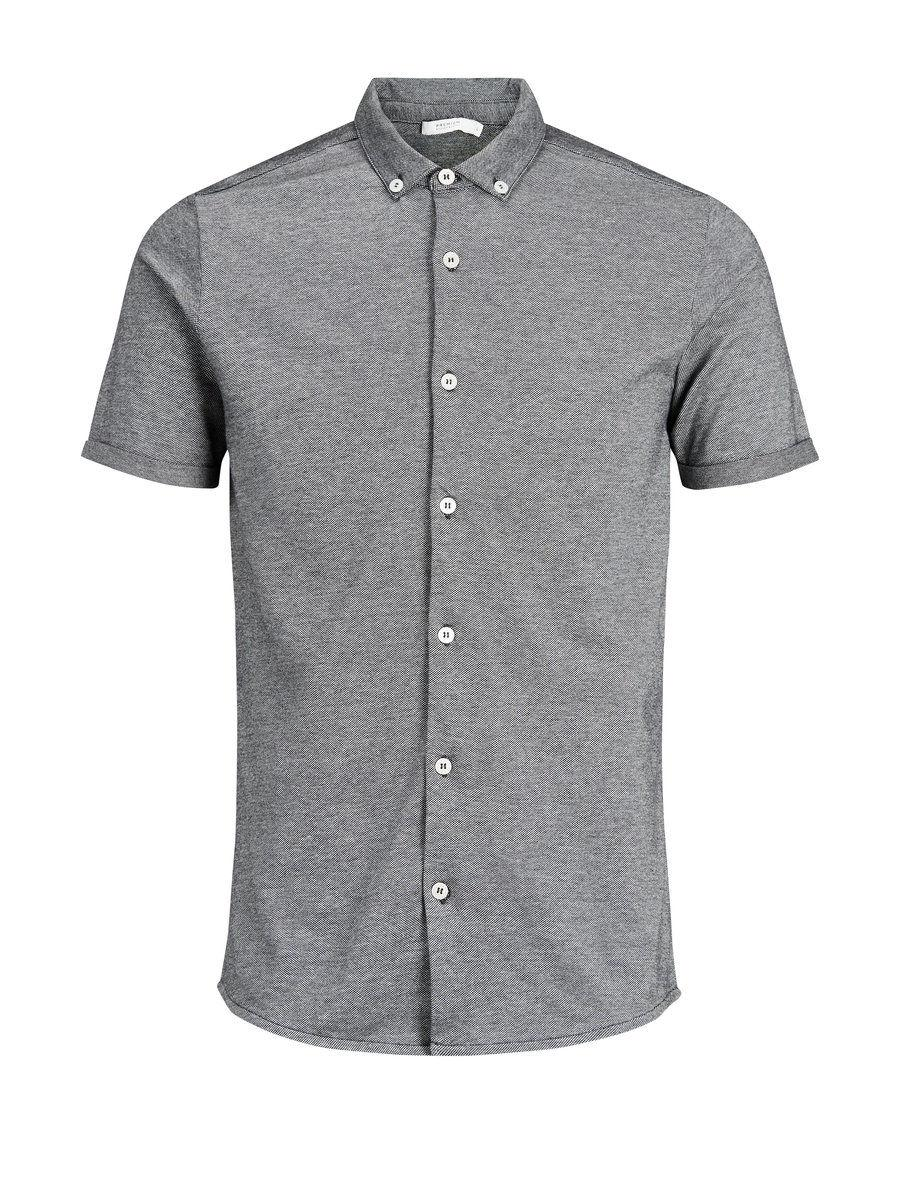teeshirt: (74, 60, 823, 1063)
